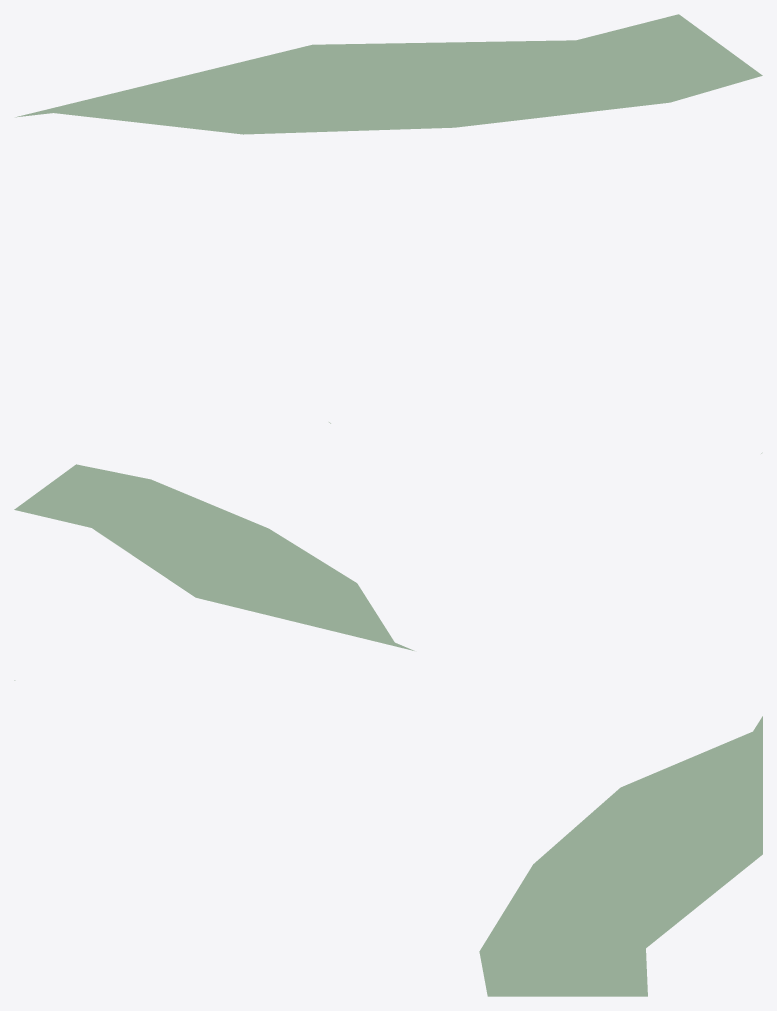
Rendered from 125_131_mid.glb.
3 views of the same model, one above another, from view 1: azimuth 30°, elevation 25°; view 2: azimuth 150°, elevation 25°; view 3: azimuth 270°, elevation 25° (orthographic). The views are drawn at different scales.
Size of the model in its own units: 500 by 0 by 500.
